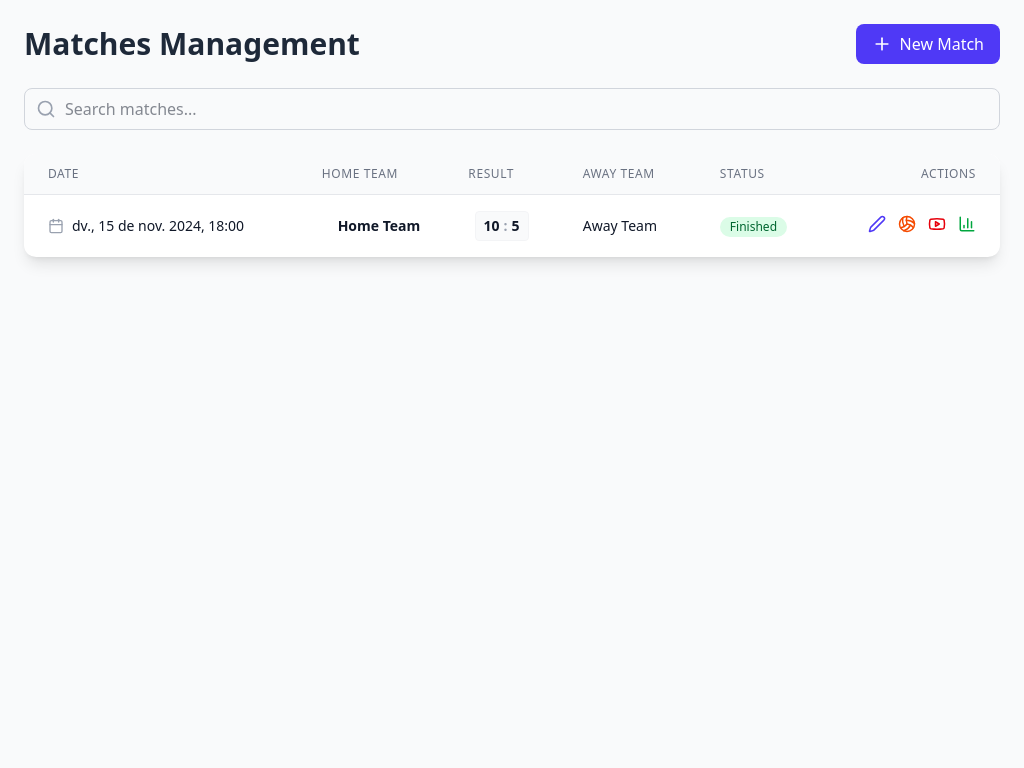
Test case: Statistics Flow Integration › renders matches list and opens statistics modal
// Click View Statistics button
Step 1. Click the button titled "View Statistics" → (967, 224), box [958, 214, 976, 232]
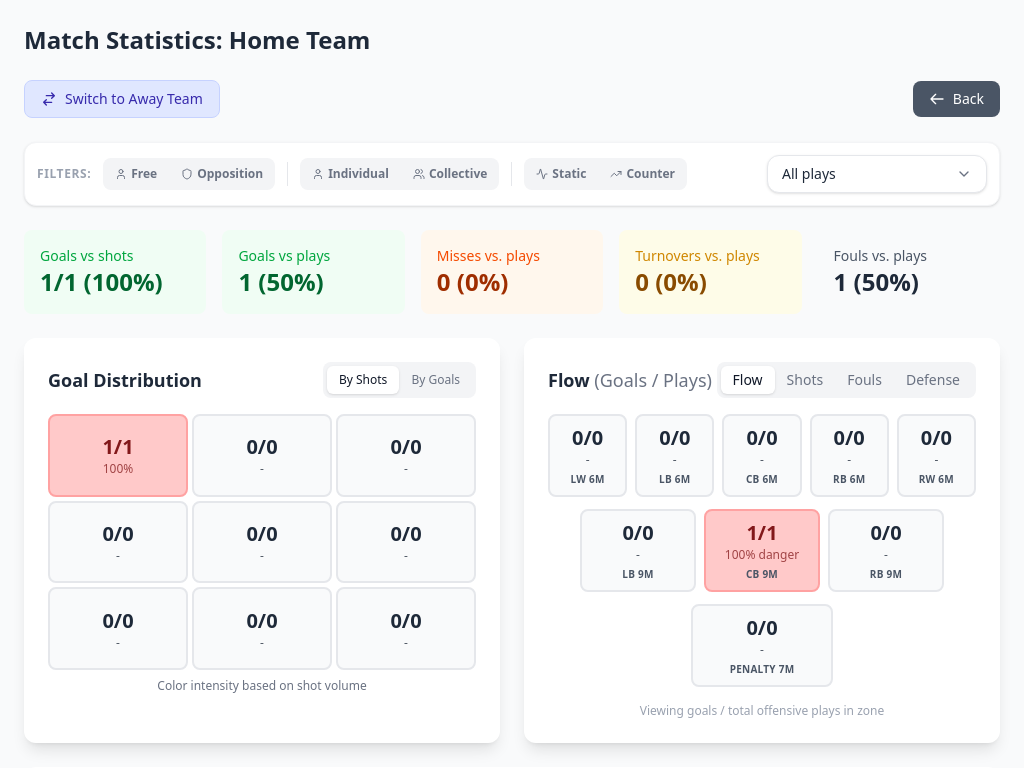
Expected: the heading "Match Statistics: Home Team" is shown, [24, 23, 370, 56]
